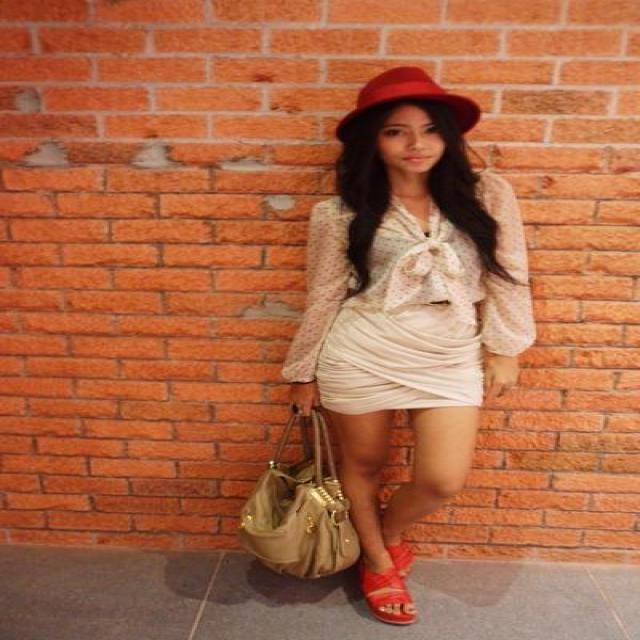bag: (228, 456, 358, 578)
dress: (282, 167, 536, 414)
hat: (349, 66, 469, 136)
shoe: (349, 550, 414, 625)
